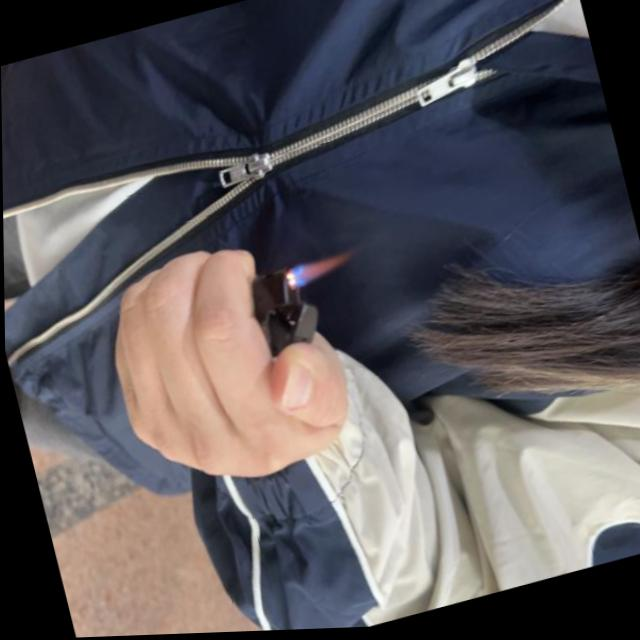Fire: (290, 253, 348, 291)
